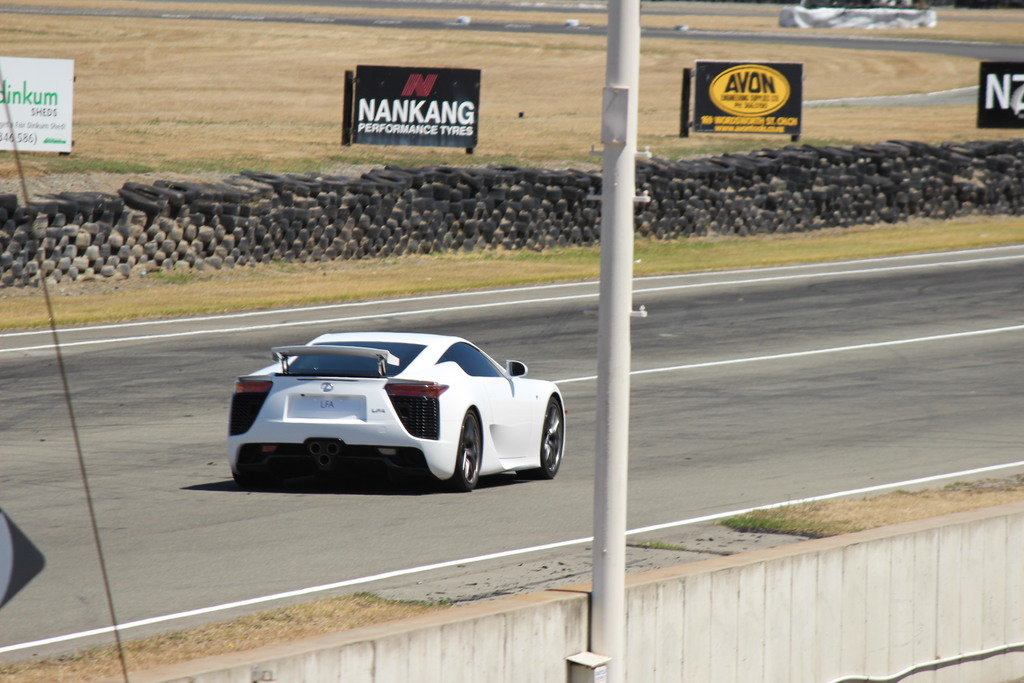Car: (219, 315, 579, 496)
